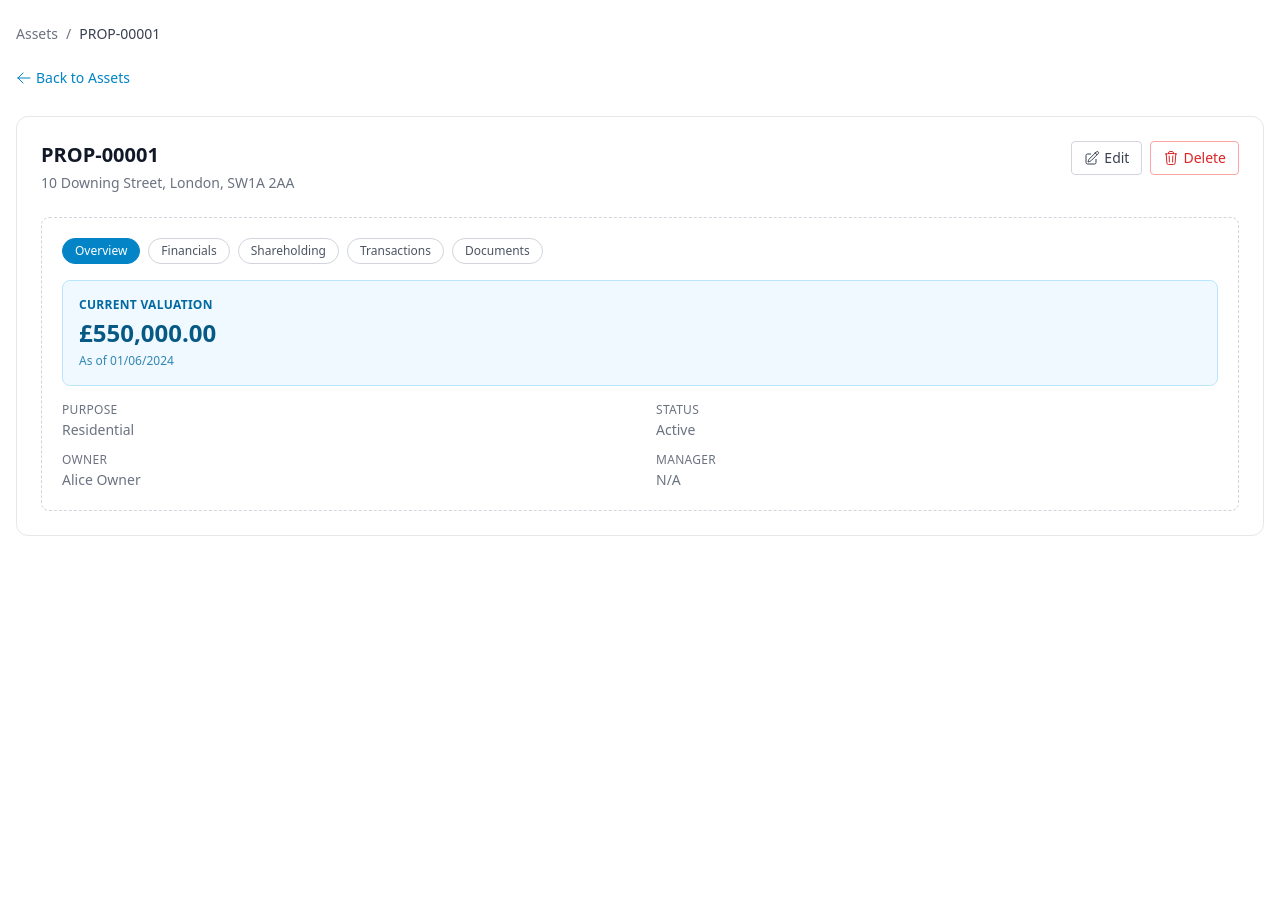
Test: AssetDetailPage › distinguishes active mortgage in financials tab
Expected: the button "Overview" is shown, left=62, top=238, right=140, bottom=264
Click the button "Financials" at coordinates (189, 251), box left=148, top=238, right=230, bottom=264
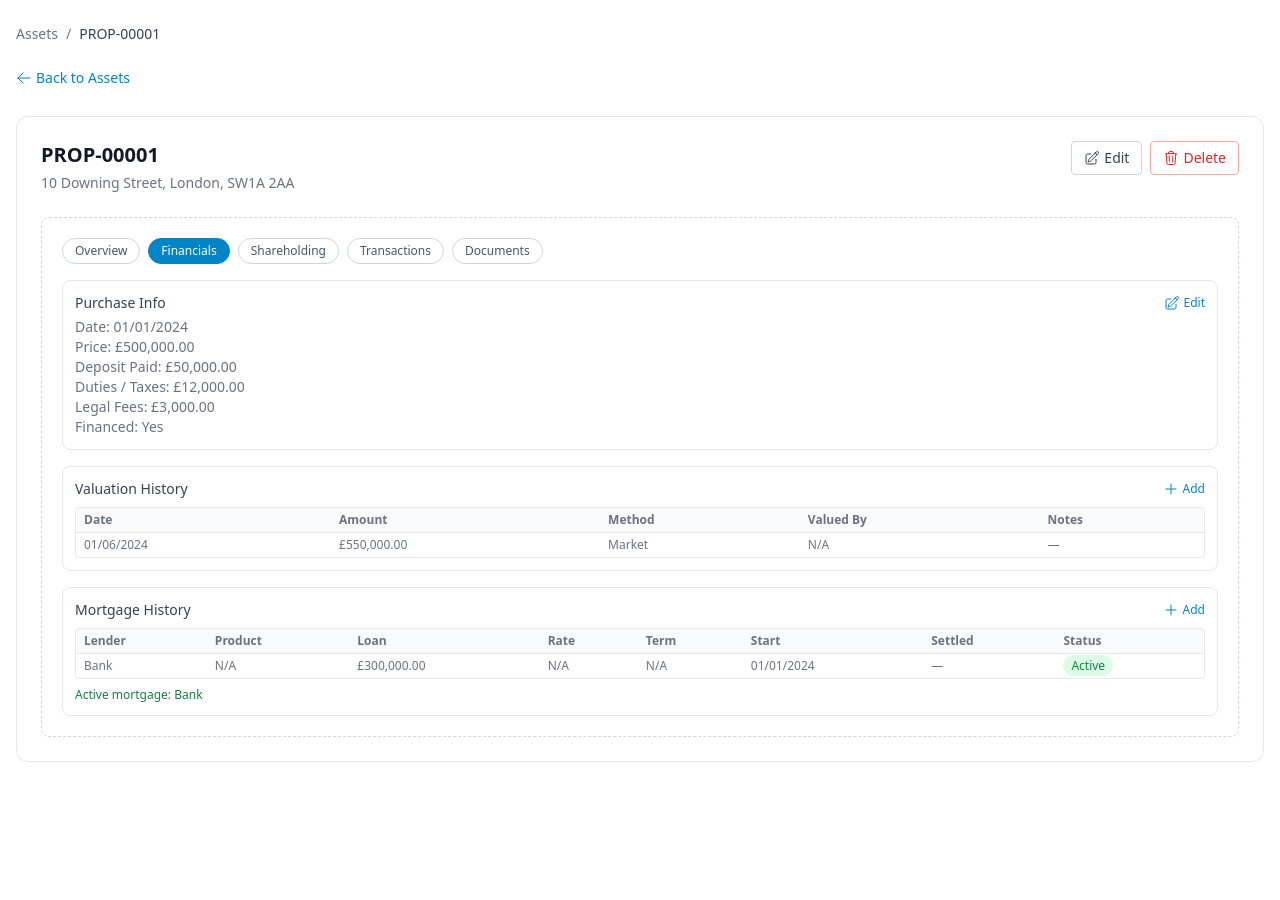
Expected: the text "Active" is shown, left=1063, top=655, right=1113, bottom=676
